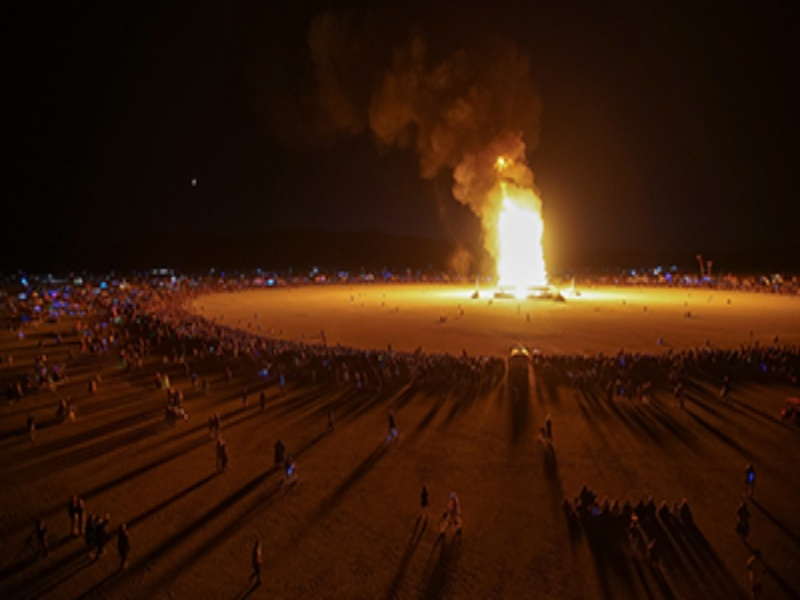smoke: (317, 32, 529, 184)
